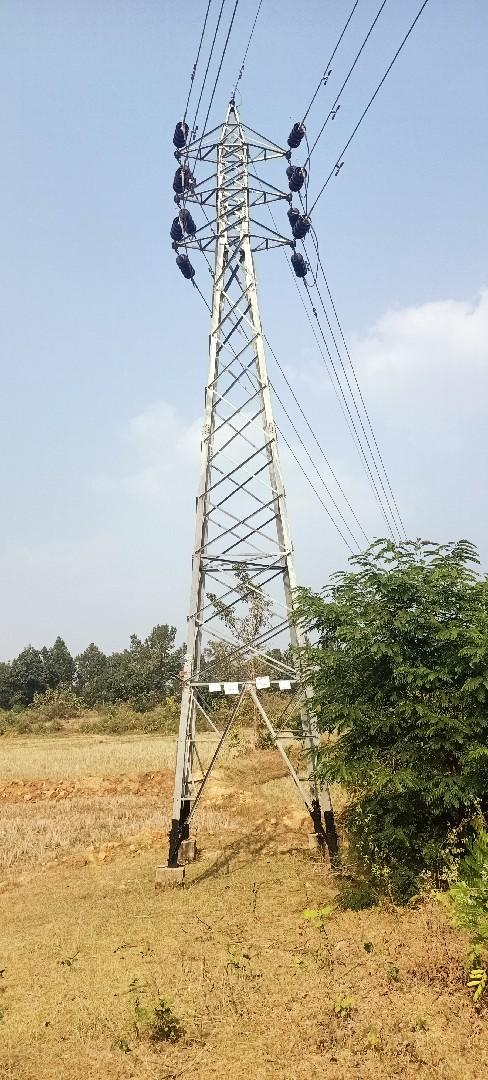GSM Antenna: (163, 95, 305, 588)
